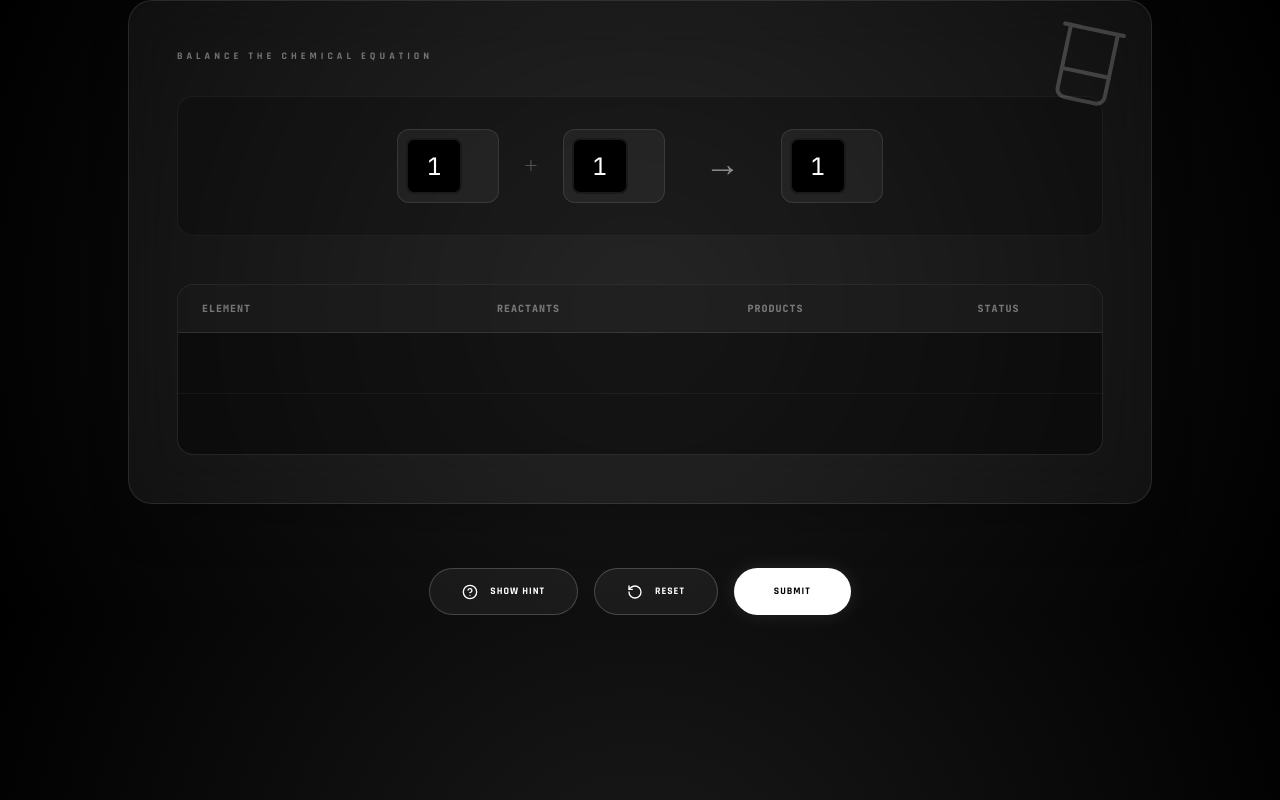
EquationBalancer Component › shows hint when hint button is clicked
The image size is (1280, 800).
Click show hint button
Click the button "Show Hint" at (504,592), box x1=429 y1=568 x2=578 y2=615
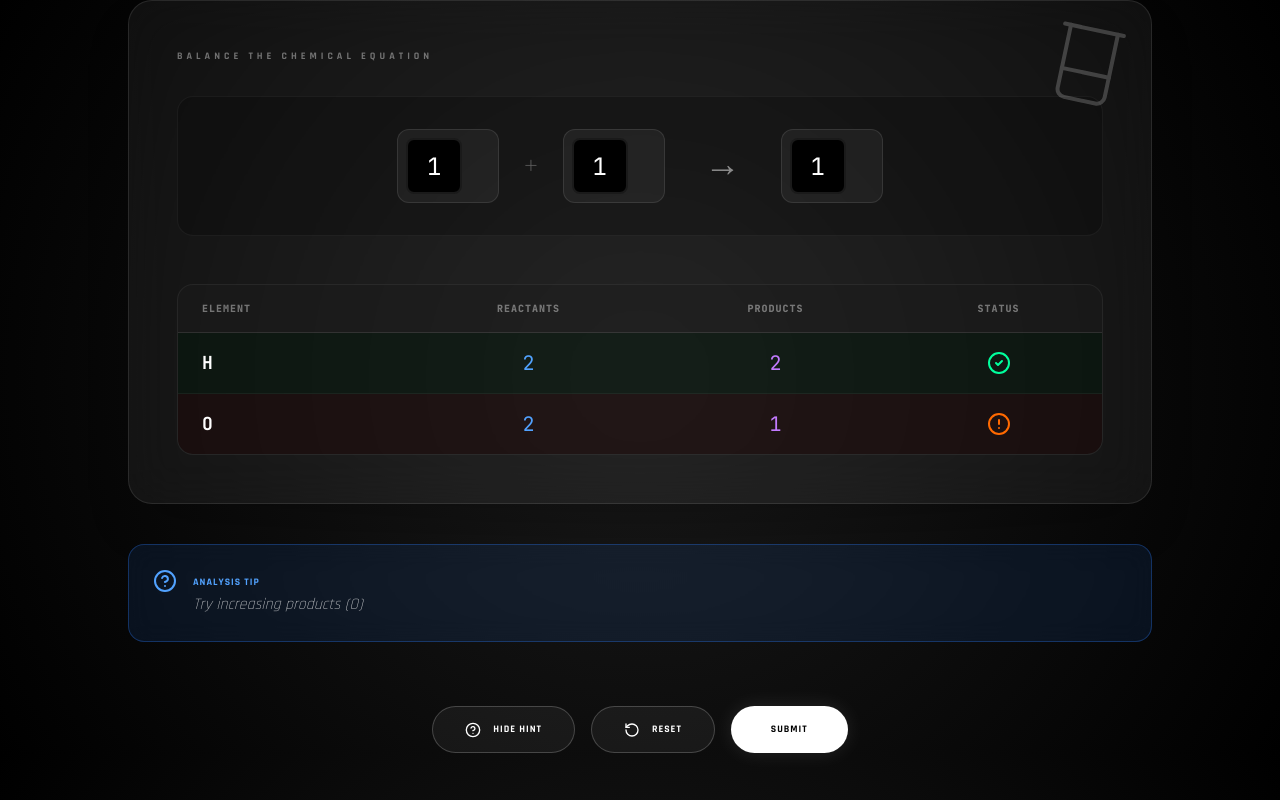
Now the button "Hide Hint" is shown, box x1=432 y1=706 x2=575 y2=753
